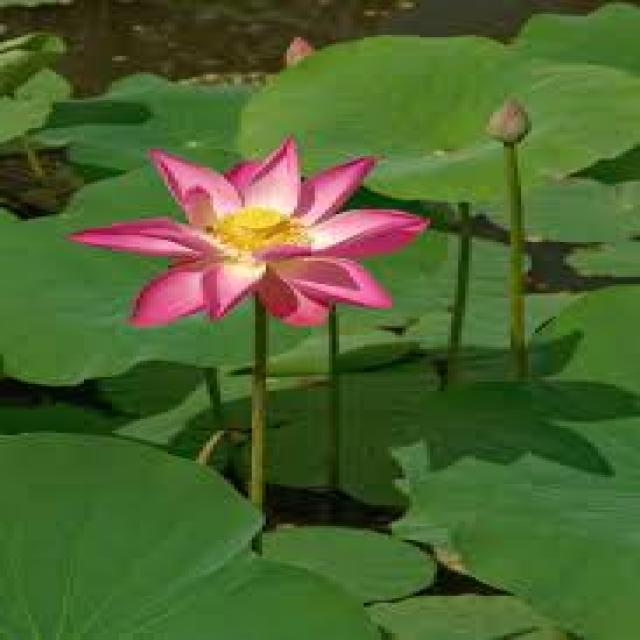lotus: (67, 132, 436, 358)
